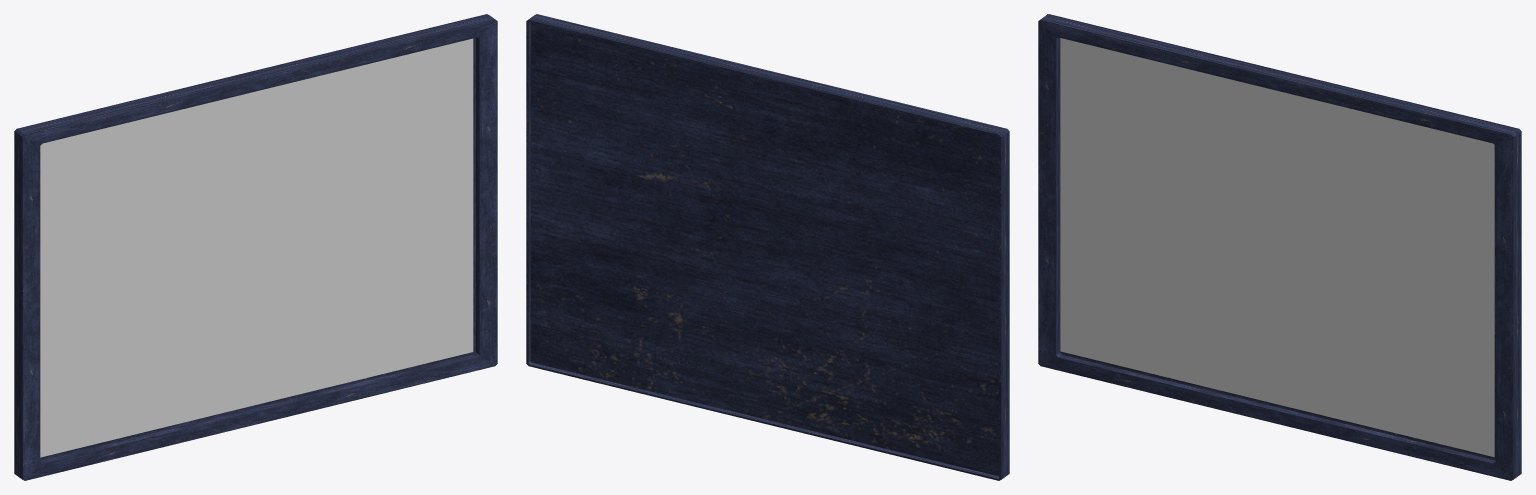
Rendered from Pizarron.fbx.
3 views of the same model, side by side, from view 1: azimuth 30°, elevation 25°; view 2: azimuth 150°, elevation 25°; view 3: azimuth 330°, elevation 25° (orthographic).
Parts seen in each view (by area): view 1: Pizarron.001, Pizarron; view 2: Pizarron.001, Pizarron; view 3: Pizarron.001, Pizarron.
Boxes of the visible parts, bbox=[...] form: Pizarron.001: bbox=[16, 14, 486, 458]; Pizarron: bbox=[14, 14, 497, 480]; Pizarron.001: bbox=[530, 19, 1000, 476]; Pizarron: bbox=[526, 14, 1009, 480]; Pizarron.001: bbox=[1047, 14, 1516, 458]; Pizarron: bbox=[1038, 14, 1521, 480].
Bounding box in the file's own units: 1256 × 875 × 38.45.
